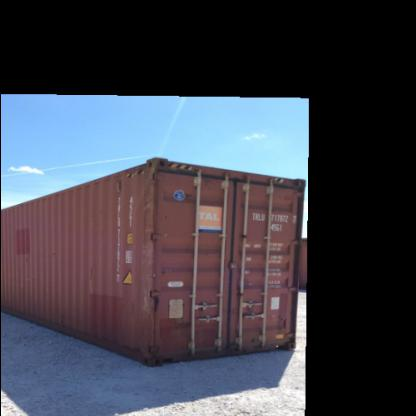Damage: (140, 159, 160, 281), (138, 277, 156, 355), (184, 322, 218, 352)
